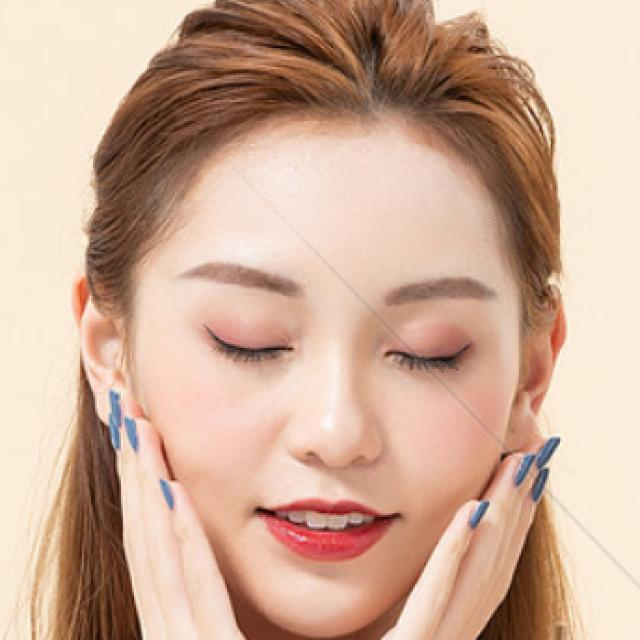close: (365, 267, 515, 388), (163, 248, 311, 370)
